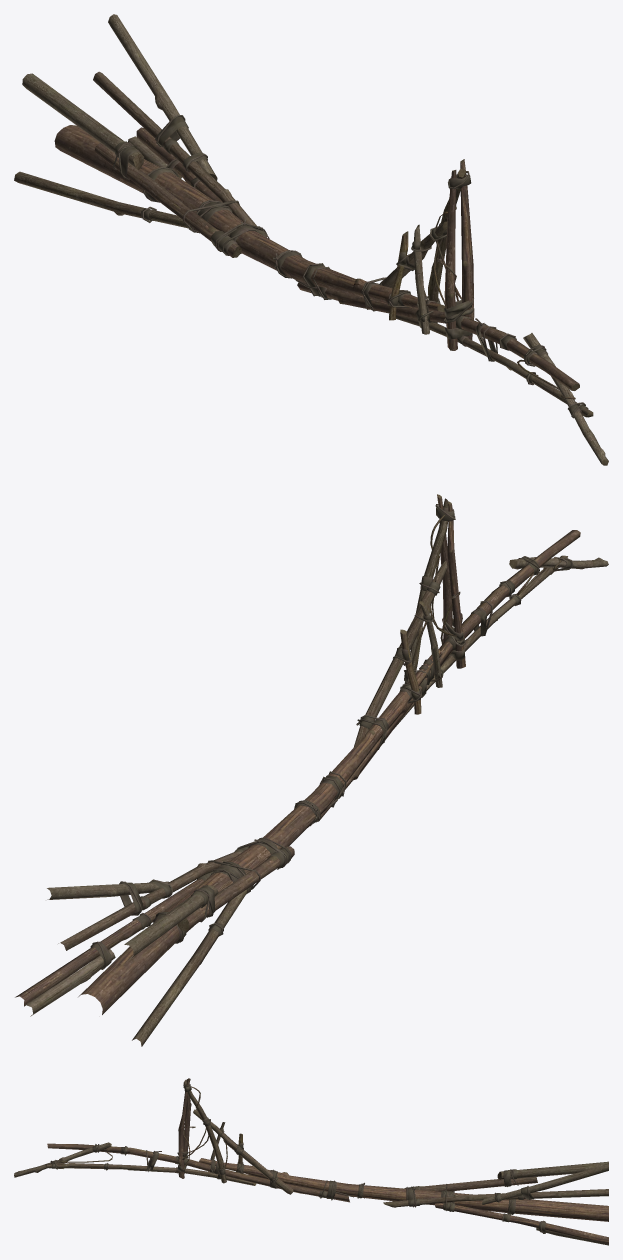
File: GEN_PRO_FishingPole_01A_LOD0-transformed.glb
3 views of the same model, one above another, from view 1: azimuth 30°, elevation 25°; view 2: azimuth 150°, elevation 25°; view 3: azimuth 270°, elevation 25° (orthographic). The views are drawn at different scales.
Visible parts, largest first — view 1: GEN_PRO_FishingPole_01A_LOD0; view 2: GEN_PRO_FishingPole_01A_LOD0; view 3: GEN_PRO_FishingPole_01A_LOD0.
Part boxes in pixels (x1=…): GEN_PRO_FishingPole_01A_LOD0: x1=14, y1=14, x2=608, y2=465; GEN_PRO_FishingPole_01A_LOD0: x1=15, y1=494, x2=608, y2=1046; GEN_PRO_FishingPole_01A_LOD0: x1=14, y1=1078, x2=608, y2=1245.
Size of the model in its own units: 0.0286 by 0.0585 by 0.1998.
Materials: 2 (2 with a texture image).
